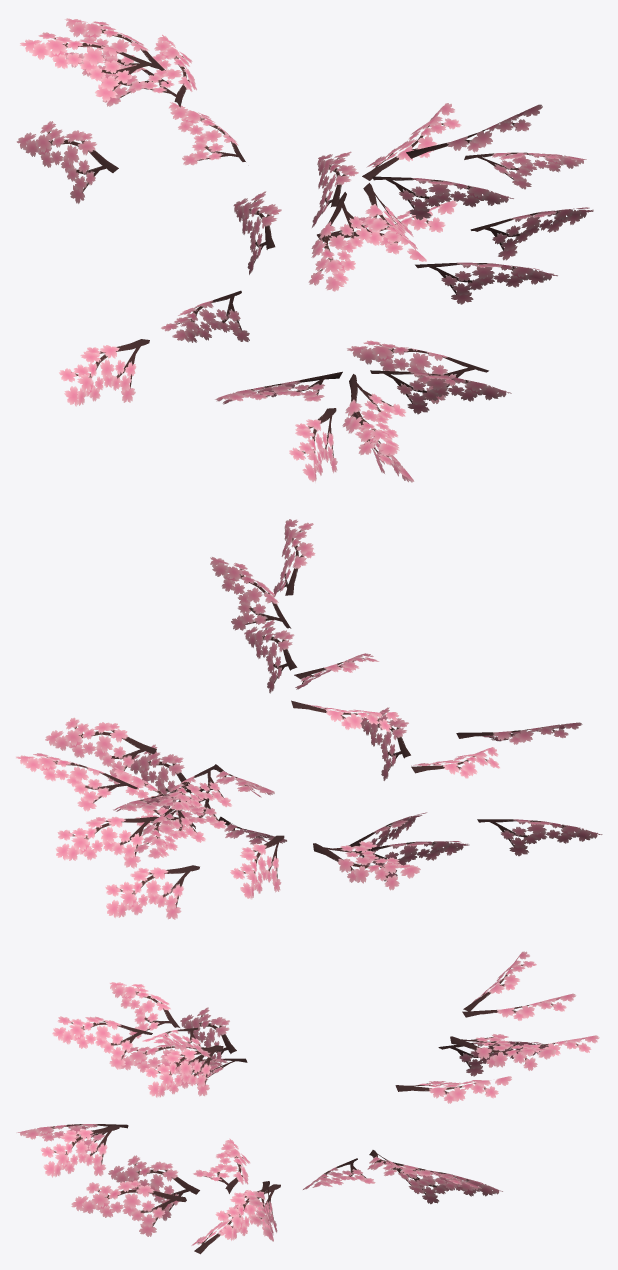
Rendered from SM_SakuraBranch01_V2.FBX.
3 renders of one model, top to bottom at view 1: azimuth 30°, elevation 25°; view 2: azimuth 150°, elevation 25°; view 3: azimuth 270°, elevation 25°, orthographic. The views are drawn at different scales.
Visible parts, largest first — view 1: SM_SakuraBranch01; view 2: SM_SakuraBranch01; view 3: SM_SakuraBranch01.
Boxes of the visible parts, <box> form: SM_SakuraBranch01: <box>16,18,593,482</box>; SM_SakuraBranch01: <box>16,519,602,919</box>; SM_SakuraBranch01: <box>16,951,599,1254</box>.
Bounding box in the file's own units: 442 × 238 × 474.
